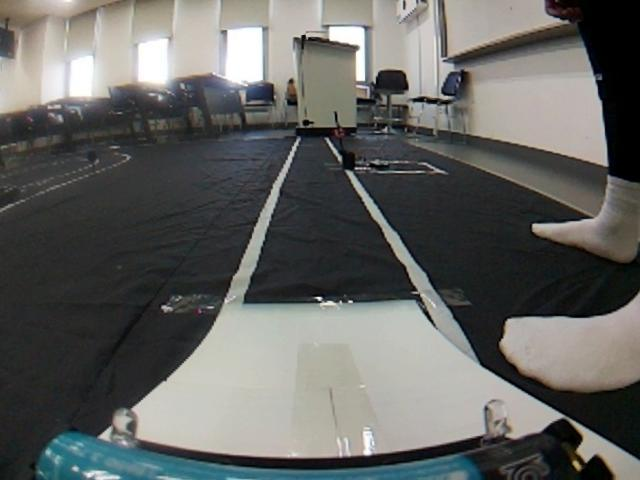hill_down: (56, 248, 501, 480)
